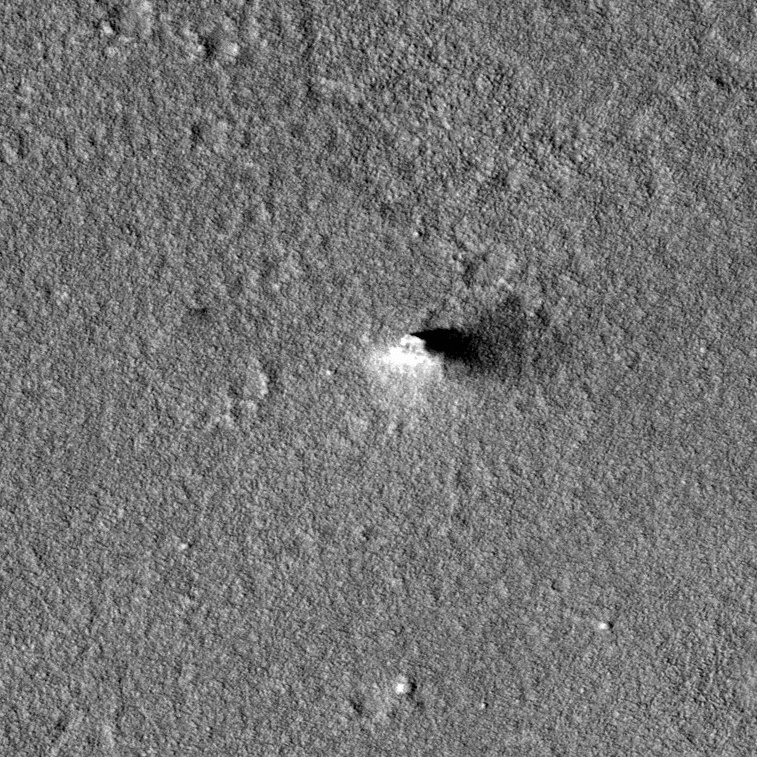dust_devil: (360, 284, 569, 406)
